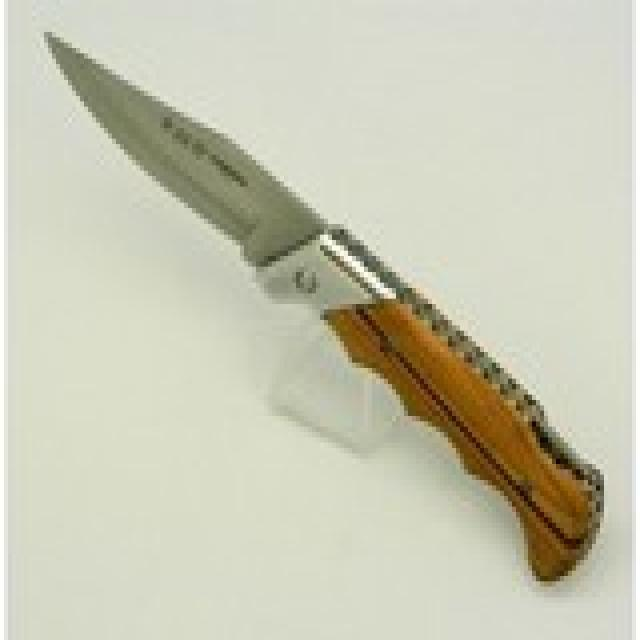Knife: (38, 21, 612, 593)
